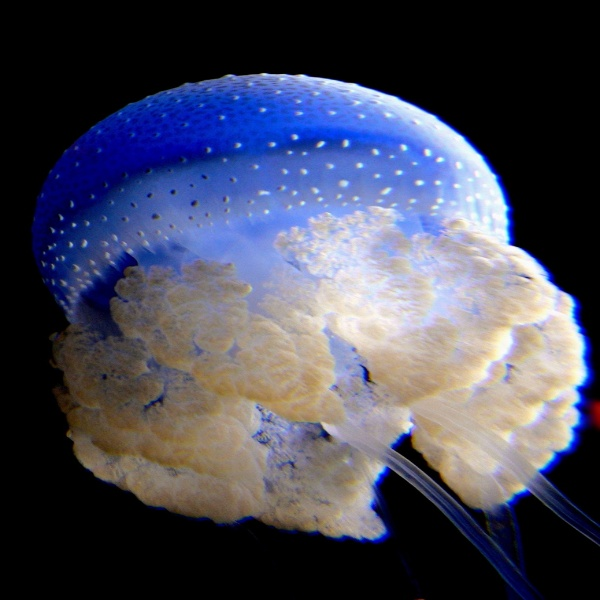Jellyfish: (26, 71, 598, 599)
